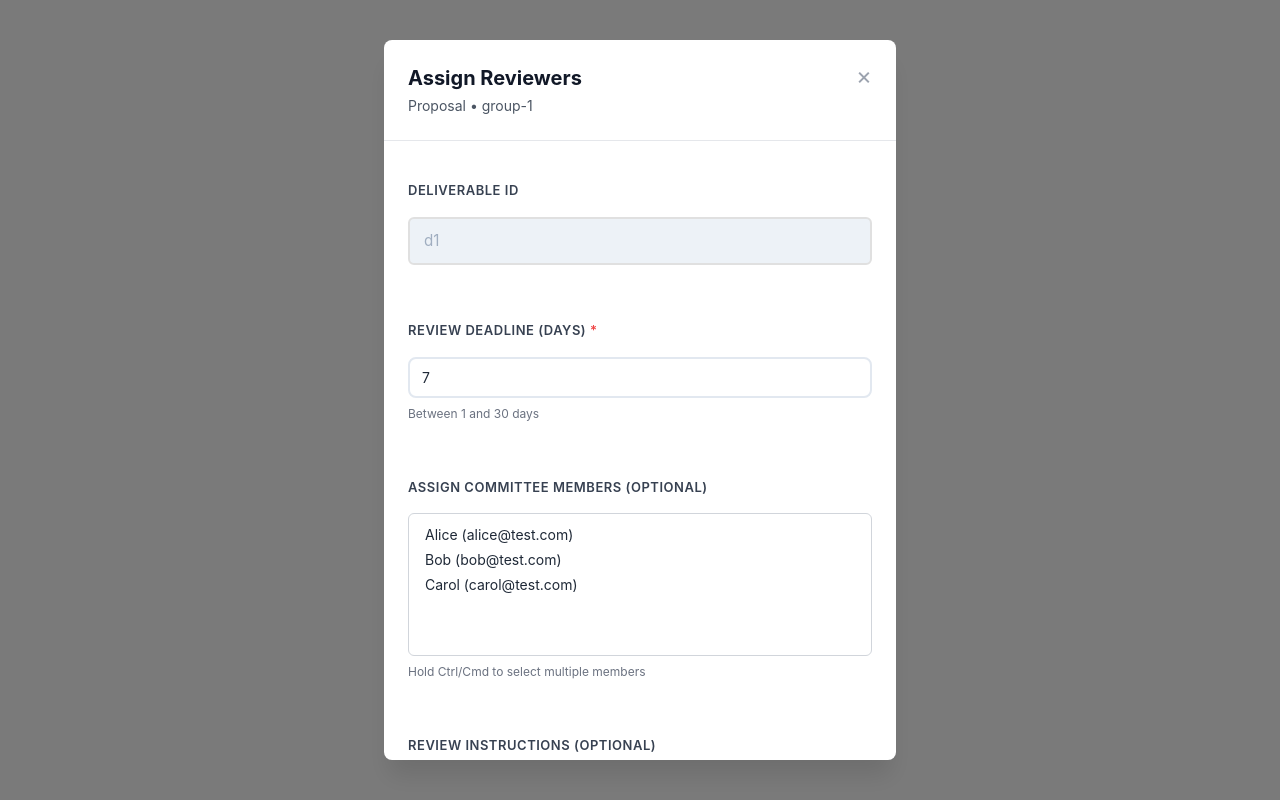
ReviewAssignmentForm › Error Handling › API error shows error message with code field
Select "Alice (alice@test.com)" in the dropdown at (640, 585), box [408,513,872,656]
(page scrolled)
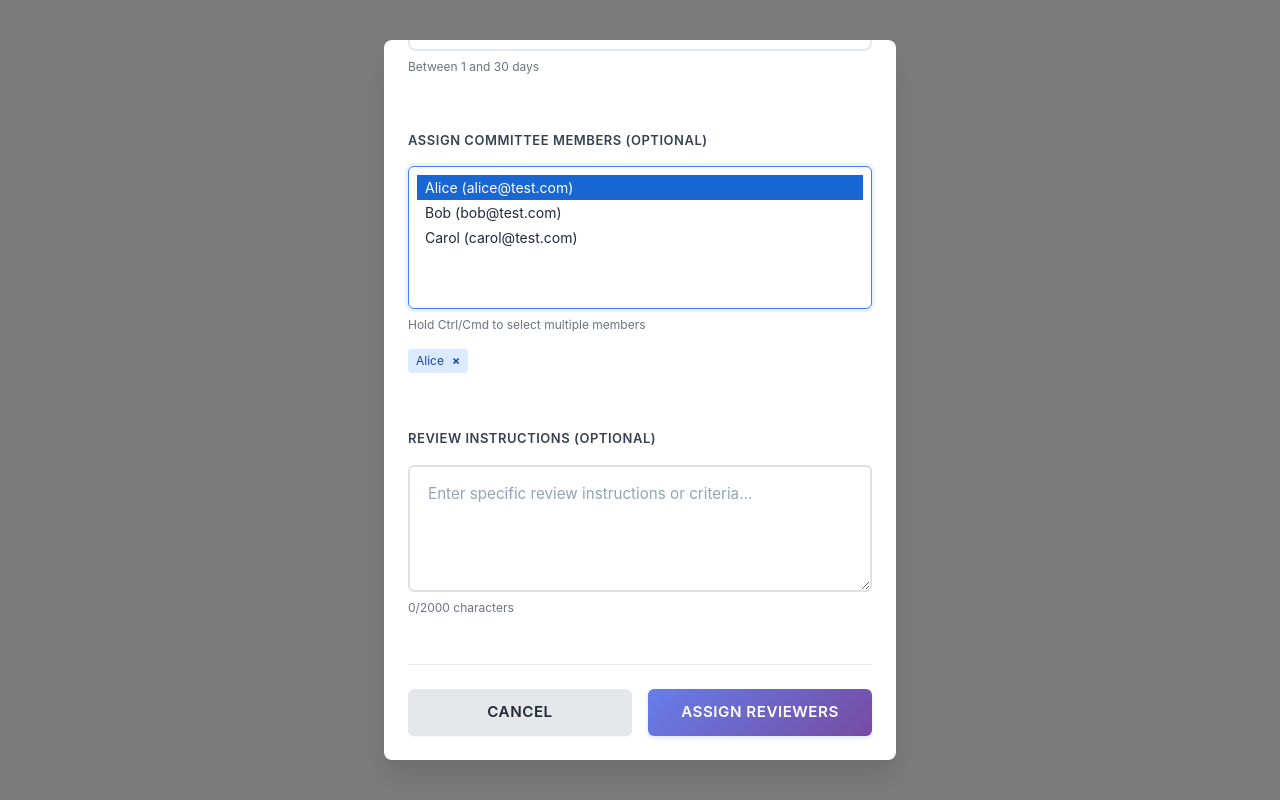
Click the button "Assign Reviewers".
click(760, 712)  # box [648,689,872,736]
(page scrolled)
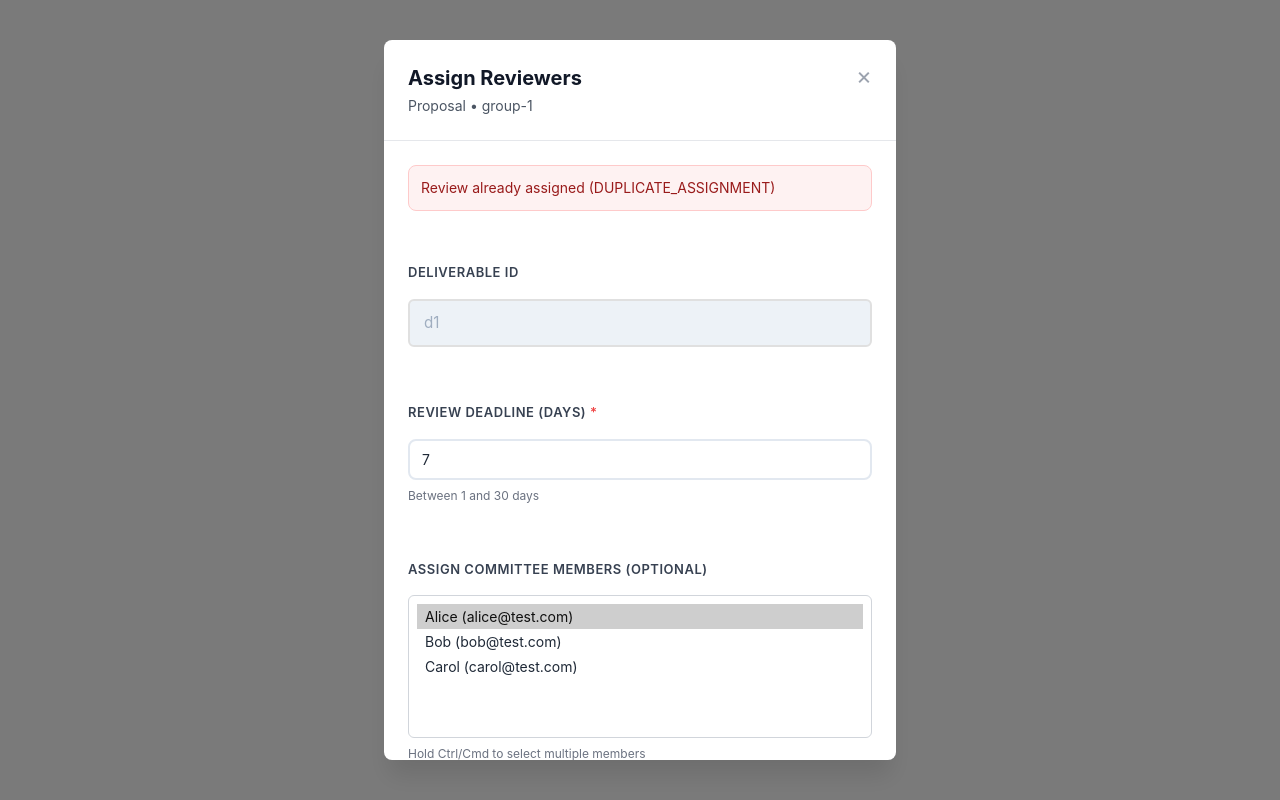
Now the text "Review already assigned (DUPLICATE_ASSIGNMENT)" is shown, box [421,179,775,196]
